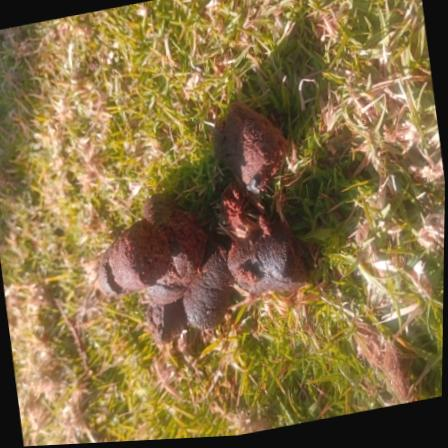dog-poop: (60, 103, 326, 366)
